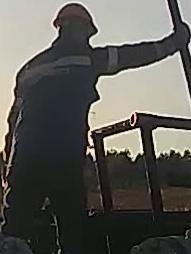gloves: (159, 22, 191, 57)
helmet: (52, 2, 99, 38)
vest: (12, 42, 117, 178)
